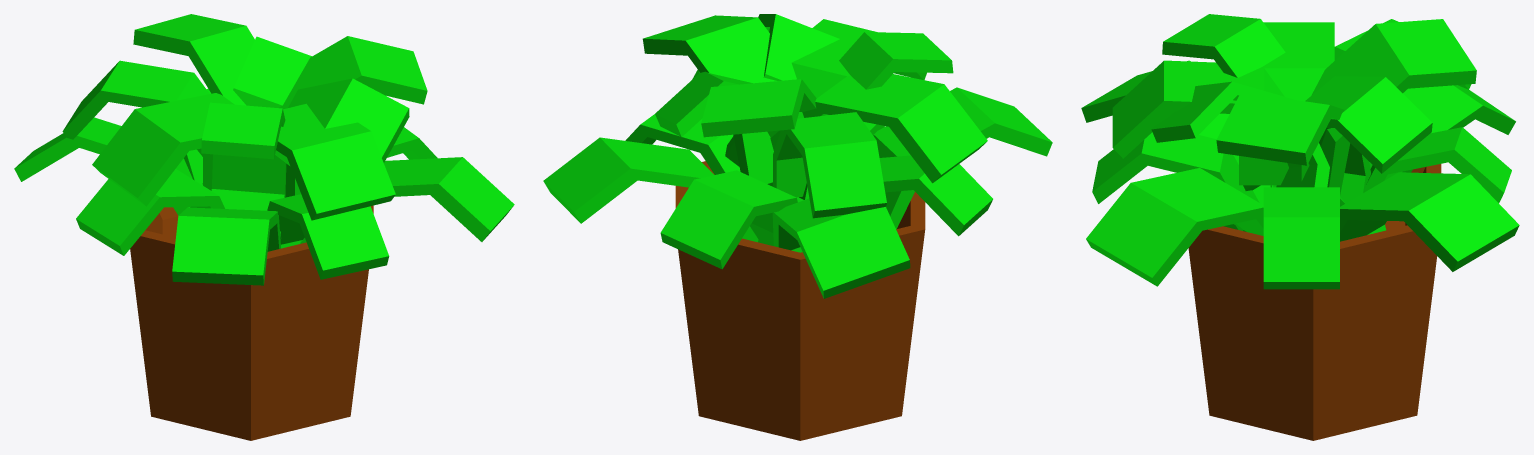
The model's file is kukka2.FBX.
3 views of the same model, side by side, from view 1: azimuth 30°, elevation 25°; view 2: azimuth 150°, elevation 25°; view 3: azimuth 270°, elevation 25° (orthographic). The views are drawn at different scales.
Parts seen in each view (by area): view 1: kukka2; view 2: kukka2; view 3: kukka2.
Boxes of the visible parts, x1,y1,x2,y2 form: kukka2: (14, 14, 514, 440); kukka2: (543, 14, 1052, 440); kukka2: (1081, 14, 1519, 440).
Size of the model in its own units: 123 by 110 by 125.
